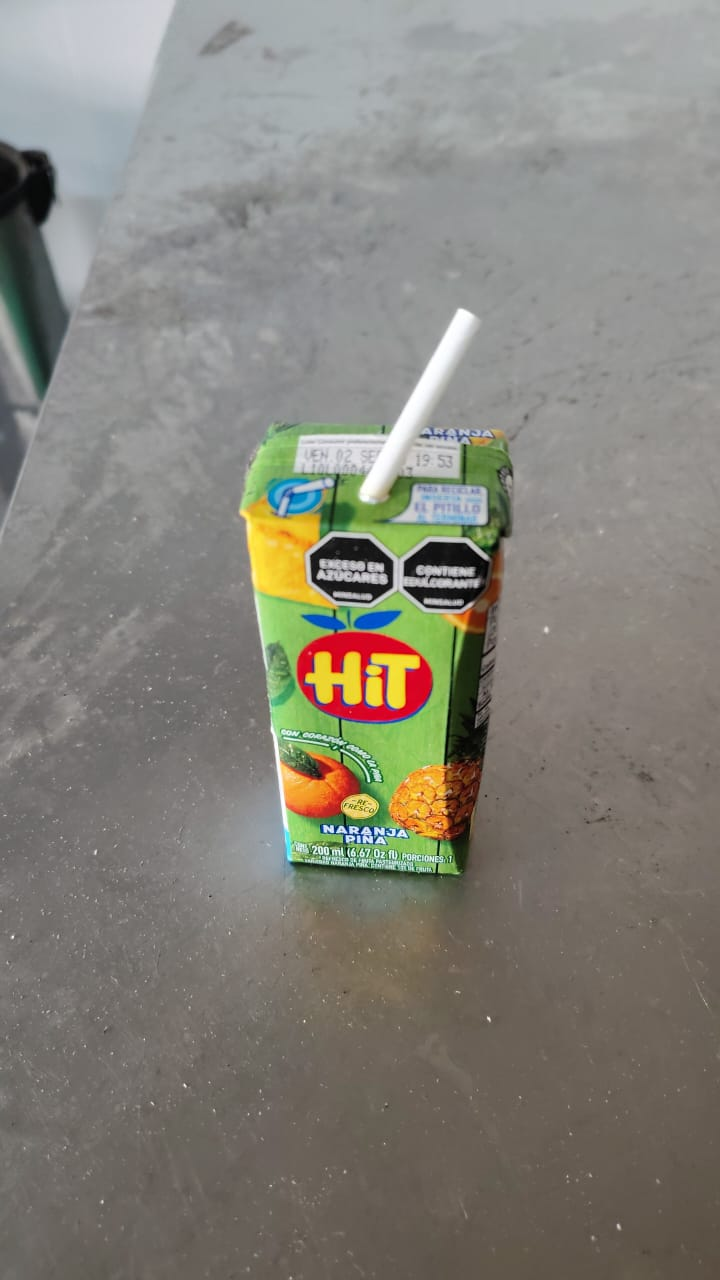Carton: (239, 425, 514, 880)
